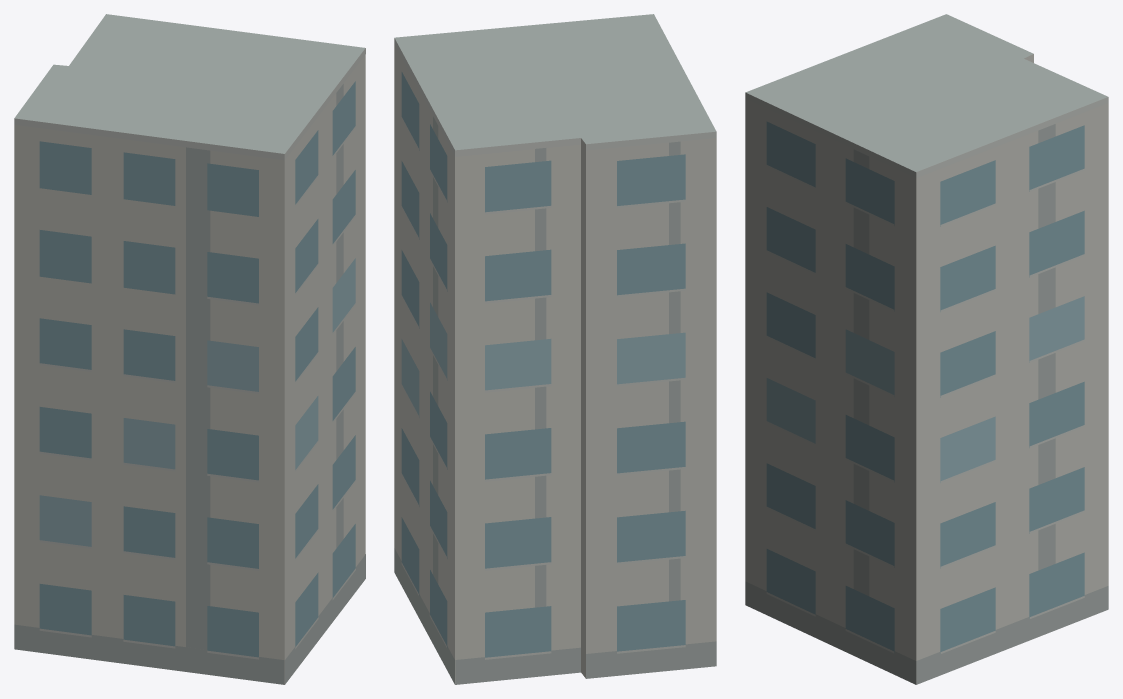
File: survey-upis-32822425.glb
The picture shows the model from 3 angles, left to right: view 1: azimuth 30°, elevation 25°; view 2: azimuth 150°, elevation 25°; view 3: azimuth 270°, elevation 25°; orthographic projection. The views are drawn at different scales.
Visible parts, largest first — view 1: survey-upis-32822425.tmp; view 2: survey-upis-32822425.tmp; view 3: survey-upis-32822425.tmp.
Part boxes in pixels (<box>): survey-upis-32822425.tmp: <box>14,14,365,684</box>; survey-upis-32822425.tmp: <box>394,14,716,684</box>; survey-upis-32822425.tmp: <box>745,14,1108,684</box>.
Bounding box in the file's own units: 13.38 × 20.2 × 12.98.
